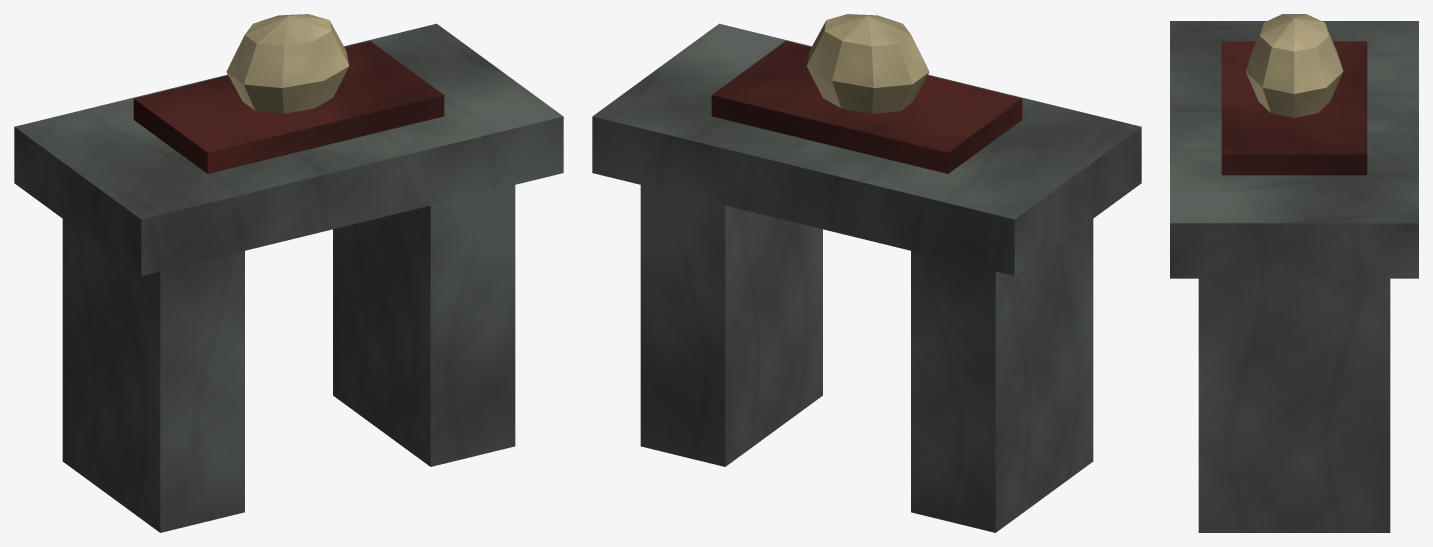
File: Altar.glb
3 views of the same model, side by side, from view 1: azimuth 30°, elevation 25°; view 2: azimuth 150°, elevation 25°; view 3: azimuth 270°, elevation 25° (orthographic).
Parts seen in each view (by area): view 1: Altar; view 2: Altar; view 3: Altar.
Part boxes in pixels (x1=…): Altar: x1=14, y1=14, x2=563, y2=532; Altar: x1=592, y1=14, x2=1141, y2=532; Altar: x1=1170, y1=14, x2=1418, y2=532.
Bounding box in the file's own units: 1.25 × 1.24 × 0.65.
Materials: 3 (3 with a texture image).
